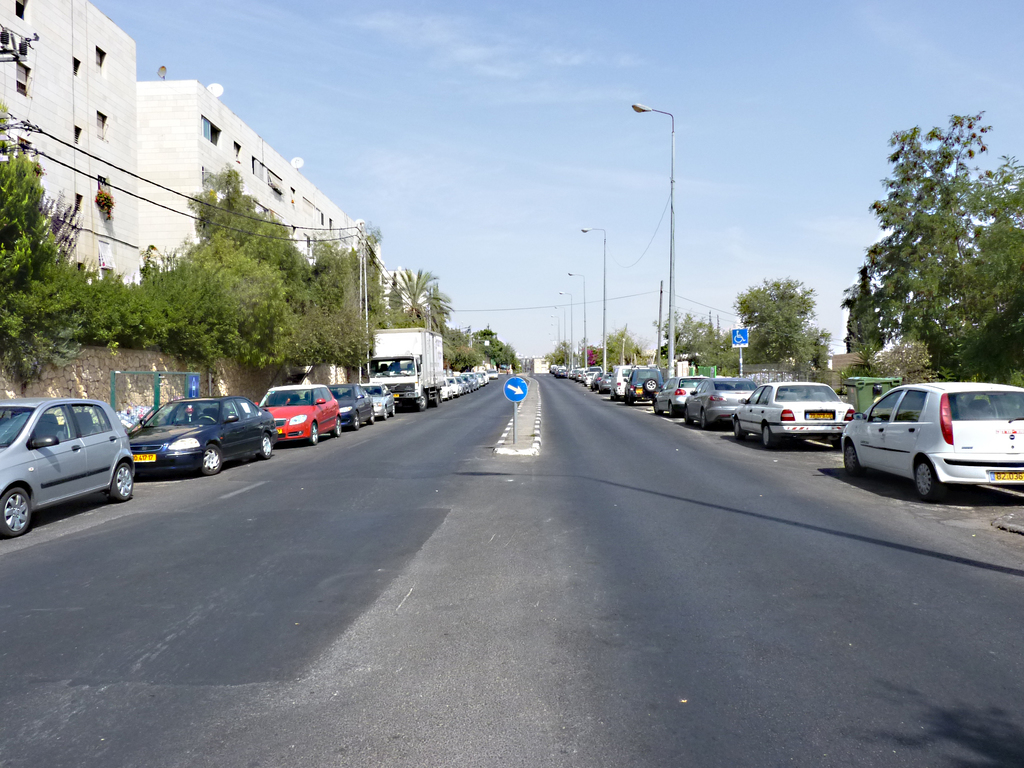Car: (122, 355, 1023, 494), (9, 387, 136, 531), (128, 399, 278, 469), (254, 387, 342, 445), (331, 384, 376, 430), (440, 371, 501, 399), (362, 384, 393, 417)
